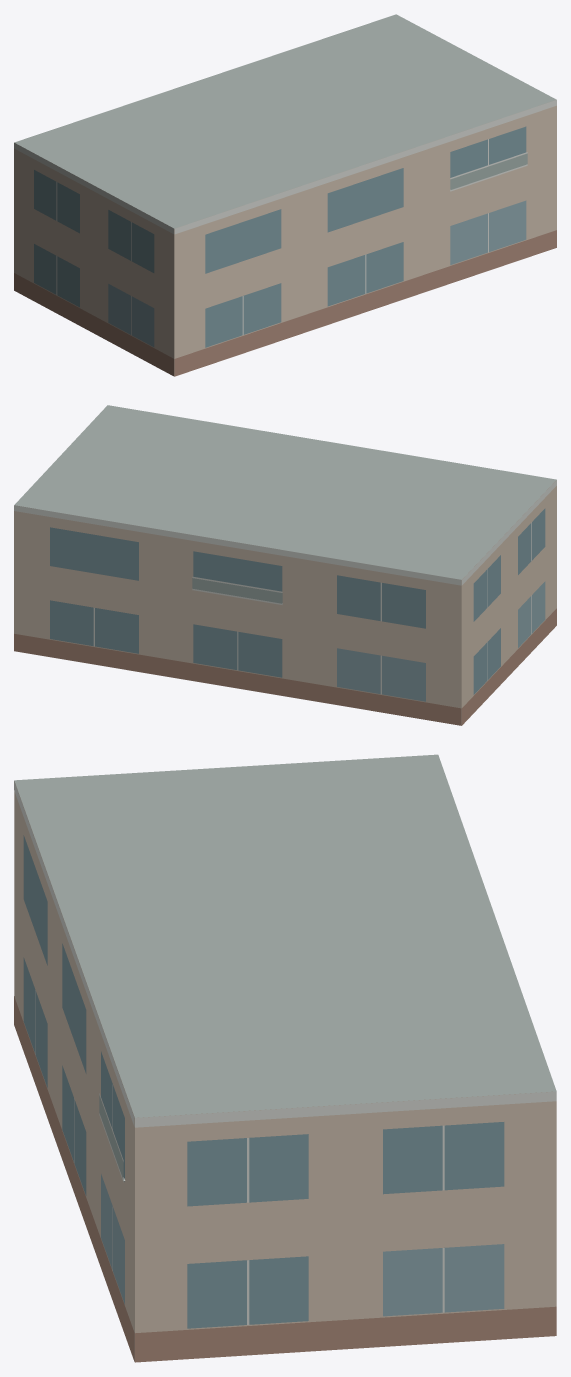
The model's file is survey-upis-32535516.glb.
3 renders of one model, top to bottom at view 1: azimuth 30°, elevation 25°; view 2: azimuth 150°, elevation 25°; view 3: azimuth 270°, elevation 25°, orthographic. The views are drawn at different scales.
Parts seen in each view (by area): view 1: survey-upis-32535516.tmp; view 2: survey-upis-32535516.tmp; view 3: survey-upis-32535516.tmp.
Part boxes in pixels (x1,y1,x2,y2): survey-upis-32535516.tmp: [14, 14, 556, 376]; survey-upis-32535516.tmp: [14, 405, 556, 725]; survey-upis-32535516.tmp: [14, 754, 556, 1362].
Size of the model in its own units: 19.46 by 6.1 by 12.28.
